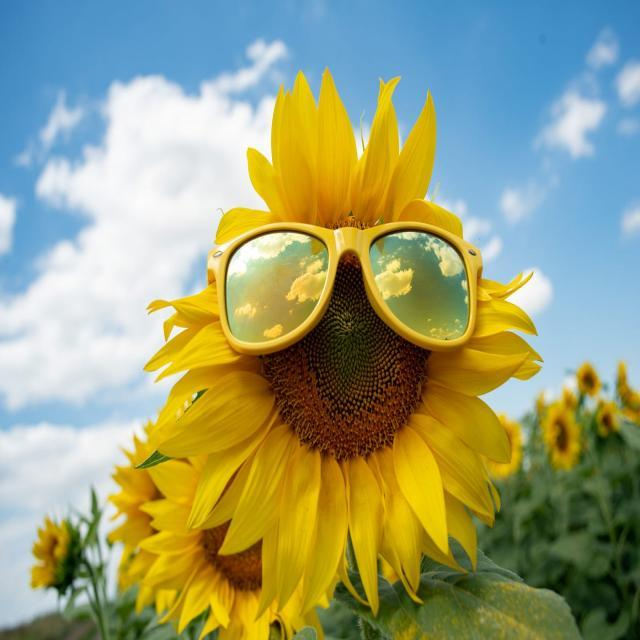sunflower: (76, 66, 544, 616), (138, 415, 348, 640), (108, 388, 194, 615), (541, 399, 581, 472), (31, 514, 70, 588), (481, 414, 522, 479), (616, 360, 640, 424), (576, 362, 600, 397), (376, 551, 402, 583), (596, 403, 618, 438), (564, 387, 578, 408), (537, 392, 544, 412)
